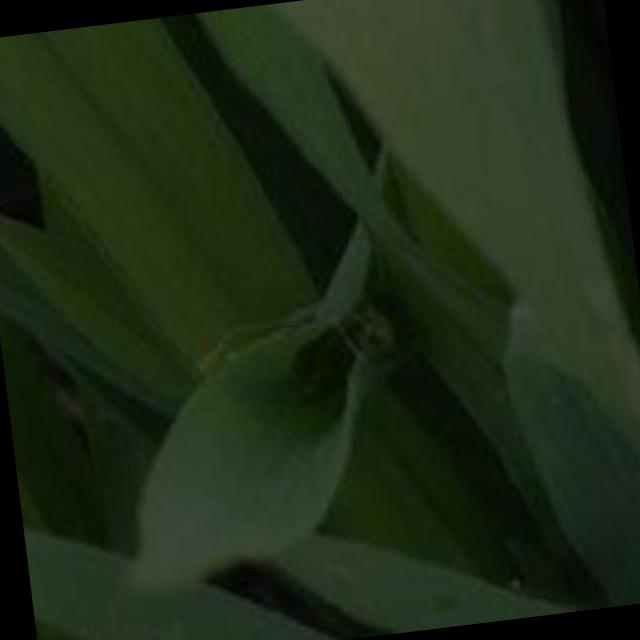leaf-folder: (256, 264, 408, 408)
